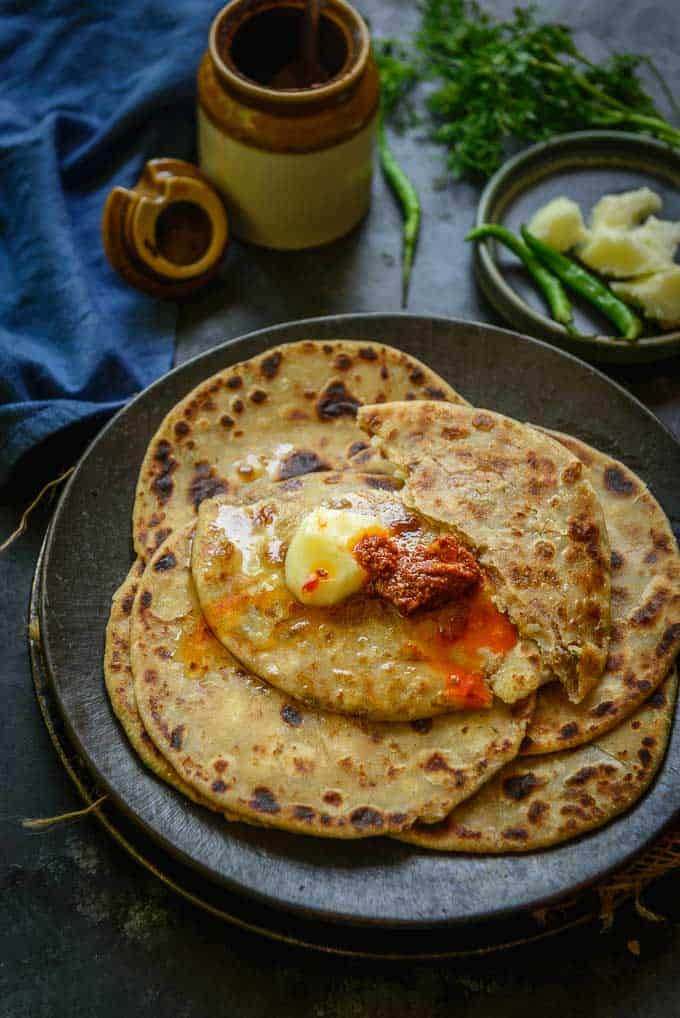aloo_paratha: (111, 340, 679, 861)
